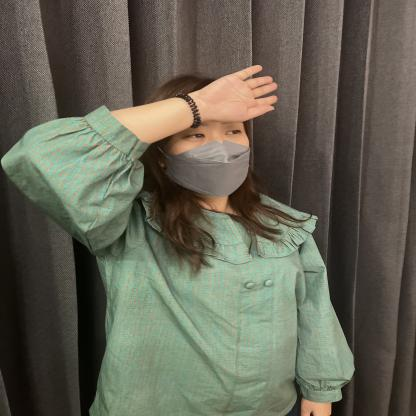Sick: (60, 50, 356, 198)
